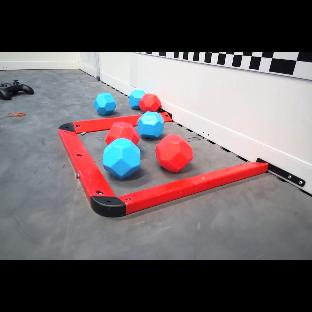V5_BLUE: (103, 139, 141, 179), (138, 111, 165, 139), (94, 93, 116, 115), (127, 89, 142, 106)
V5_RED: (155, 135, 193, 172), (105, 122, 139, 145), (139, 94, 161, 112)
